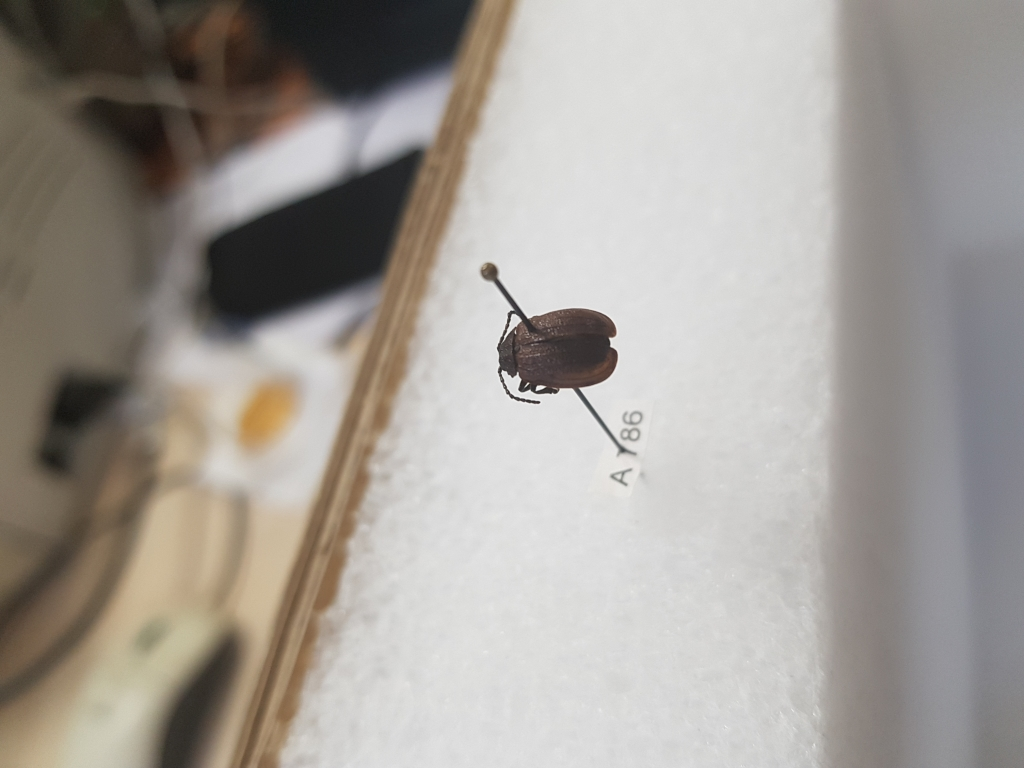Galeruca_tanaceti: (492, 304, 622, 402)
